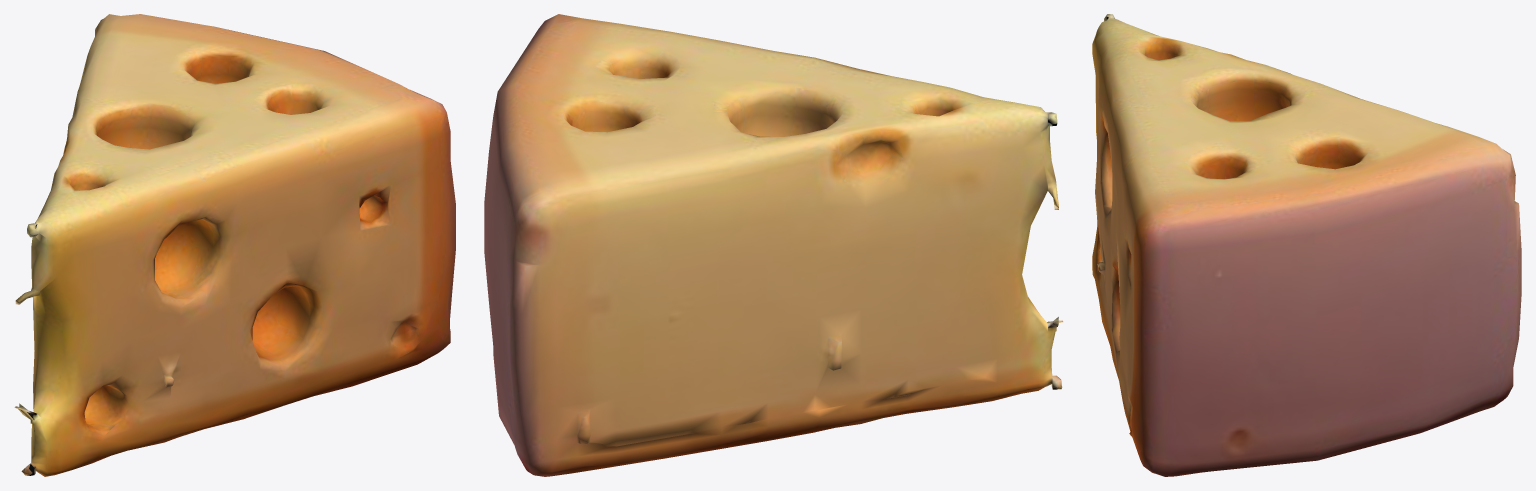
The model's file is parmesan.glb.
3 renders of one model, left to right at view 1: azimuth 30°, elevation 25°; view 2: azimuth 150°, elevation 25°; view 3: azimuth 270°, elevation 25°, orthographic. The views are drawn at different scales.
Parts seen in each view (by area): view 1: Parmesan; view 2: Parmesan; view 3: Parmesan.
Boxes of the visible parts, x1=… form: Parmesan: x1=14, y1=14, x2=455, y2=476; Parmesan: x1=484, y1=14, x2=1063, y2=476; Parmesan: x1=1092, y1=14, x2=1521, y2=476.
Bounding box in the file's own units: 1.7 × 0.9278 × 1.37.
Materials: 1 (1 with a texture image).
